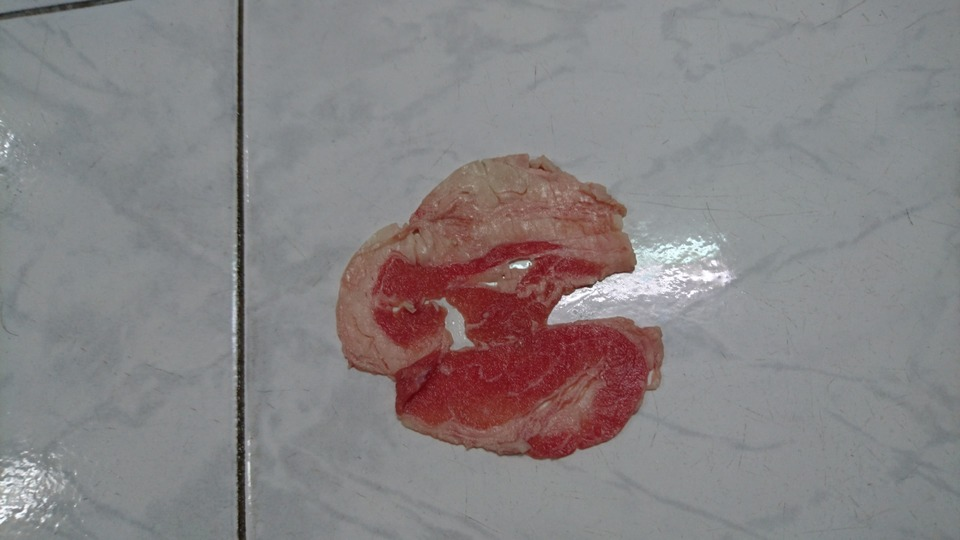restructured meat: (314, 153, 662, 460)
